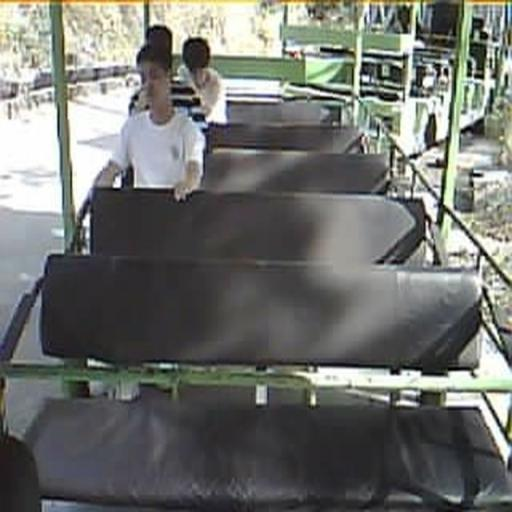persona: (76, 40, 206, 221), (126, 24, 208, 127), (175, 36, 229, 127)
